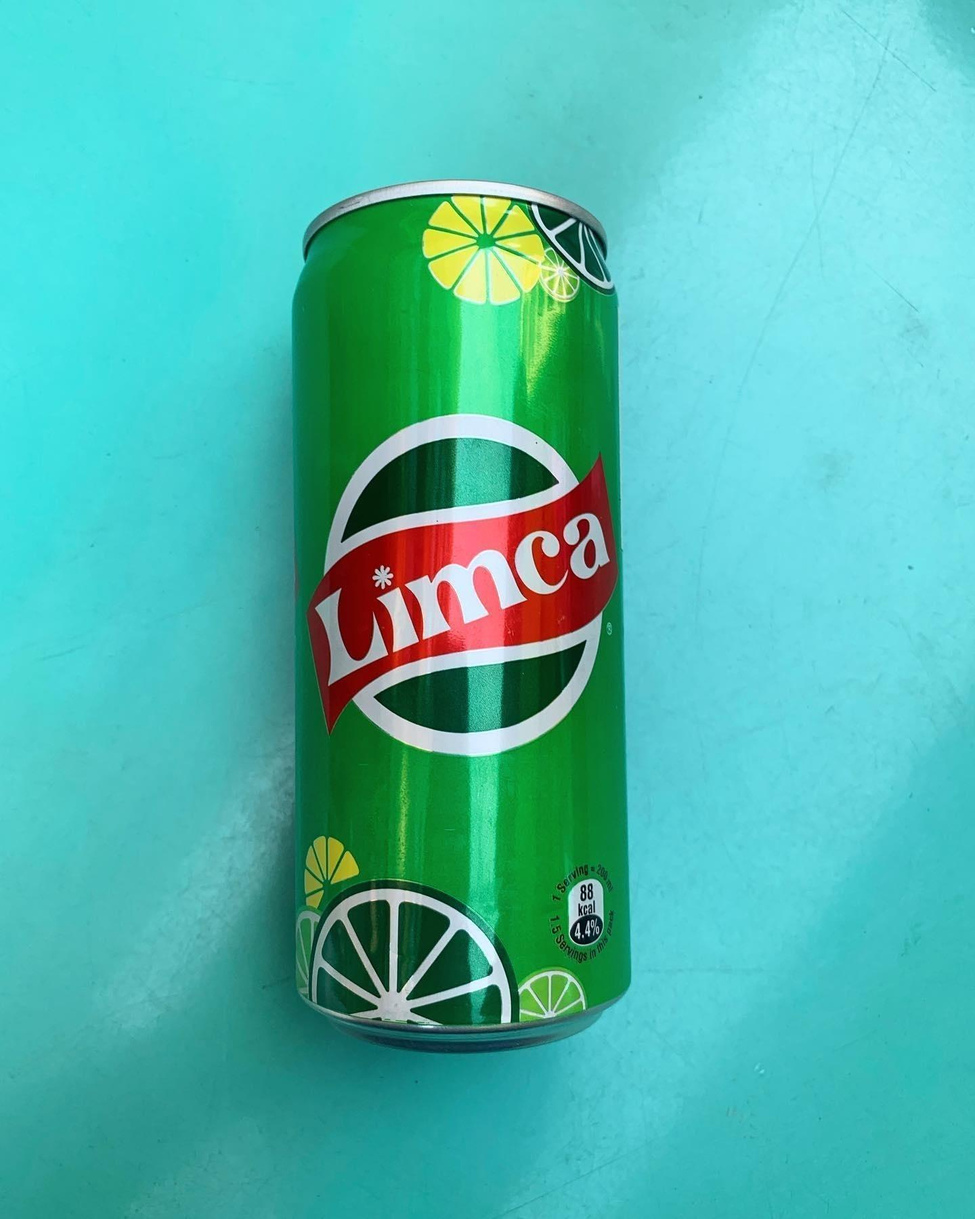tin can: (279, 165, 655, 1061)
